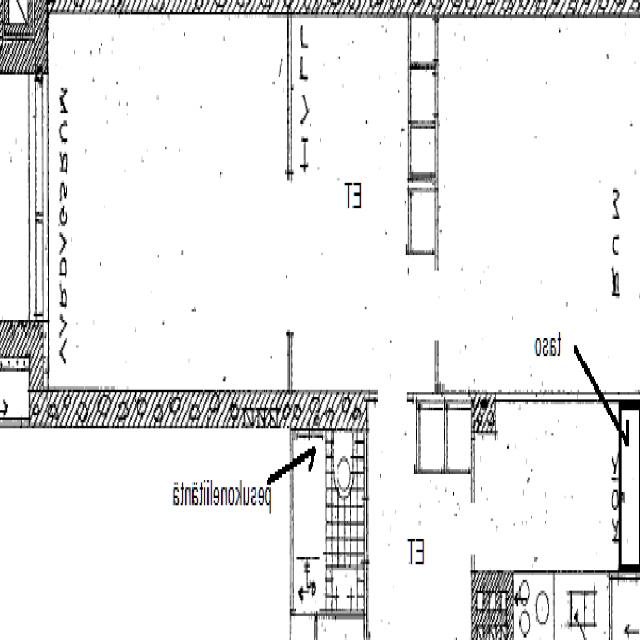door: (30, 216, 91, 316), (435, 271, 467, 339), (364, 498, 394, 562)
